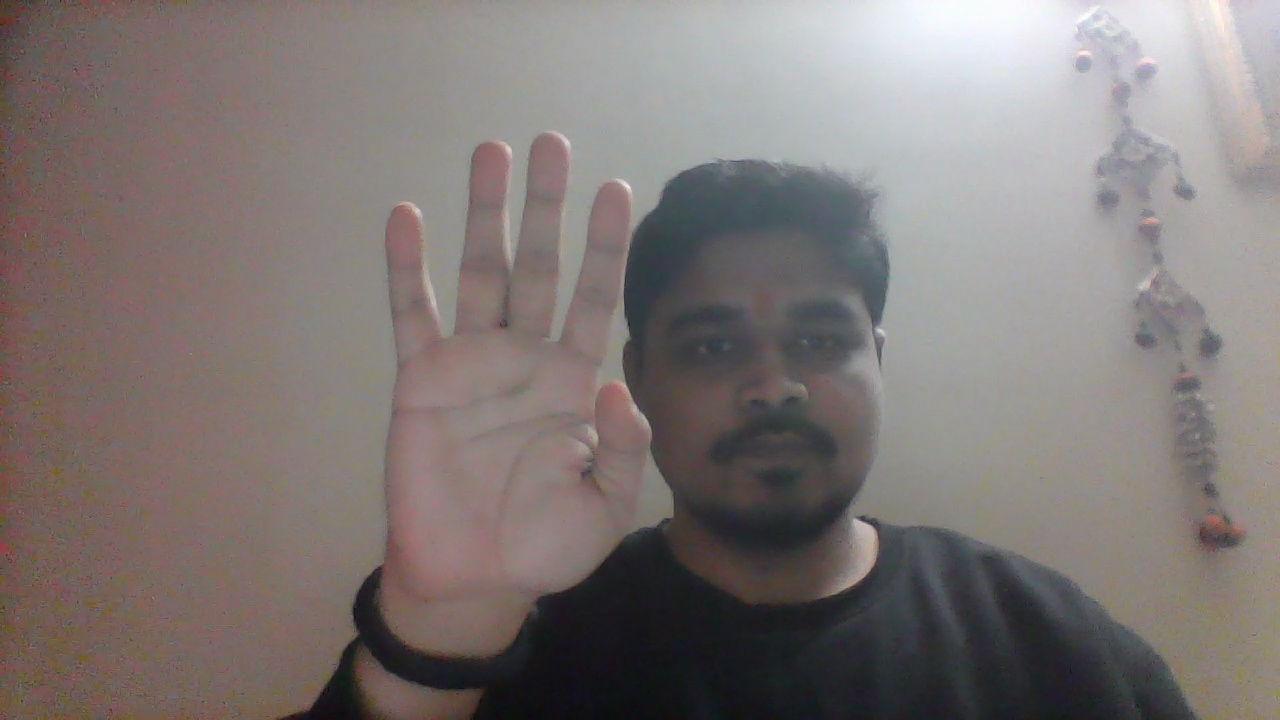Hello: (380, 130, 654, 607)
